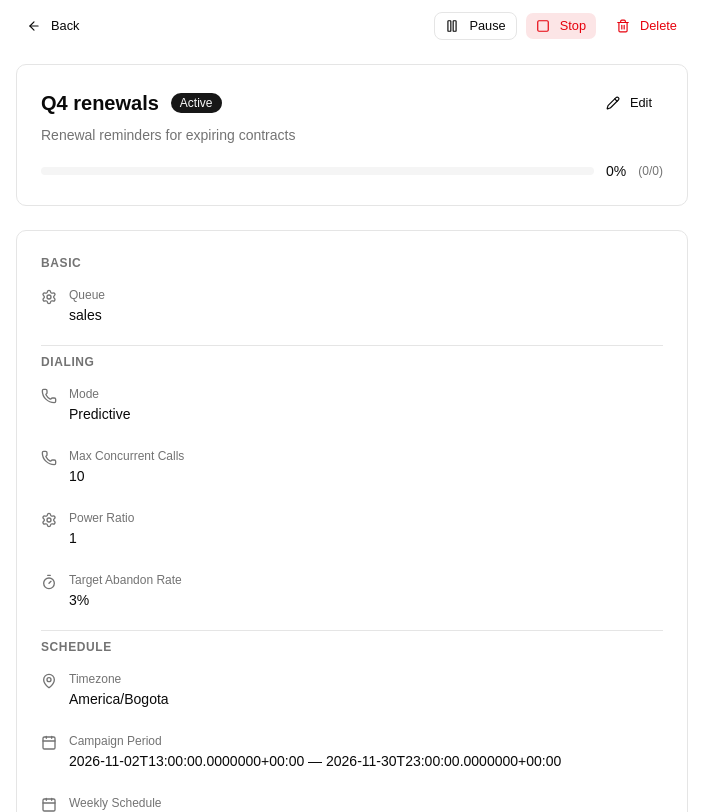
Test case: CampaignDetailPage edit form › CampaignDetailPage_ShouldPreselectTheSavedQueue_WhenTheEditModeOpens
Check: the heading "Q4 renewals" is shown, box [41,89,159,117]
Click the button "Edit" at [629, 103], box [595,89,663,117]
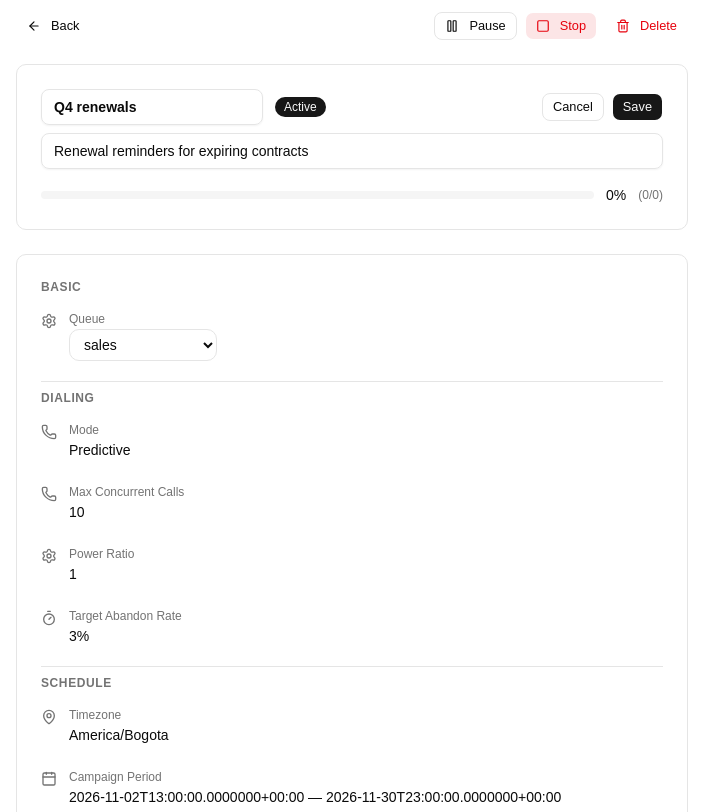
Check: the field showing "Q4 renewals" next to "Active" is shown, box [41,89,263,125]
Check: the dropdown with test id "campaign-edit-queue" shows "sales", box [69,329,217,361]
